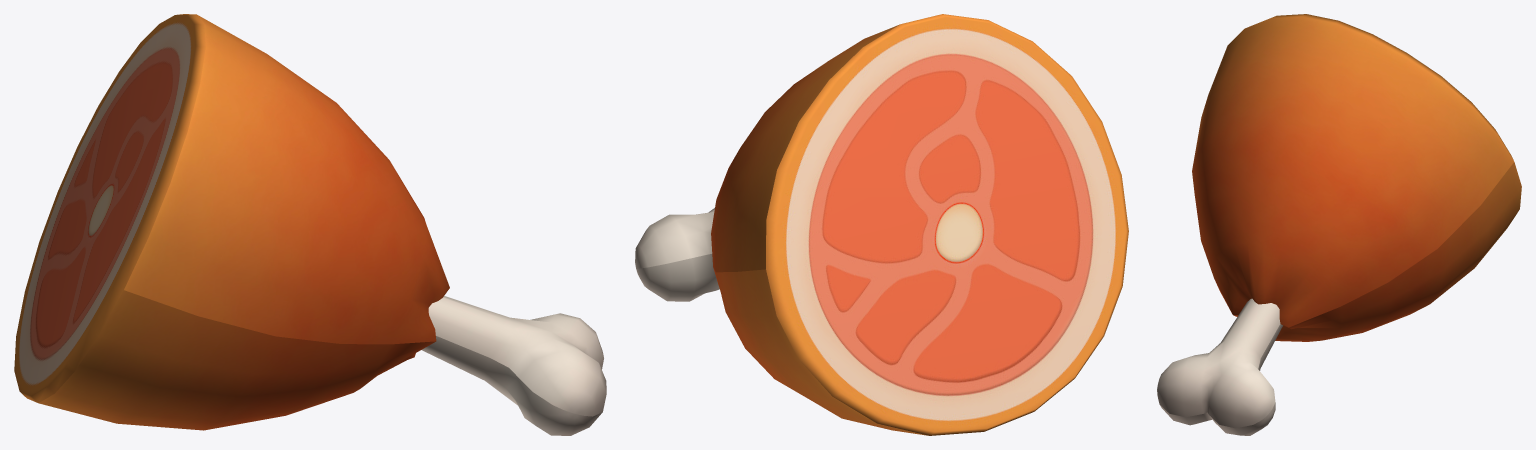
The model's file is Ham.fbx.
3 views of the same model, side by side, from view 1: azimuth 30°, elevation 25°; view 2: azimuth 150°, elevation 25°; view 3: azimuth 270°, elevation 25° (orthographic). The views are drawn at different scales.
Visible parts, largest first — view 1: Ham_1; view 2: Ham_1; view 3: Ham_1.
Part boxes in pixels (x1,y1,x2,y2): Ham_1: (14,14,606,435); Ham_1: (635,14,1128,435); Ham_1: (1157,14,1521,435).
Size of the model in its own units: 69.56 by 51.92 by 56.69.
